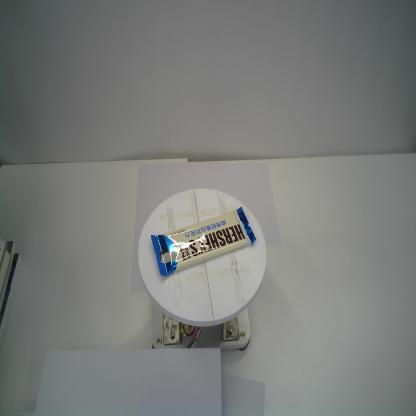Chocolate: (151, 206, 256, 275)
